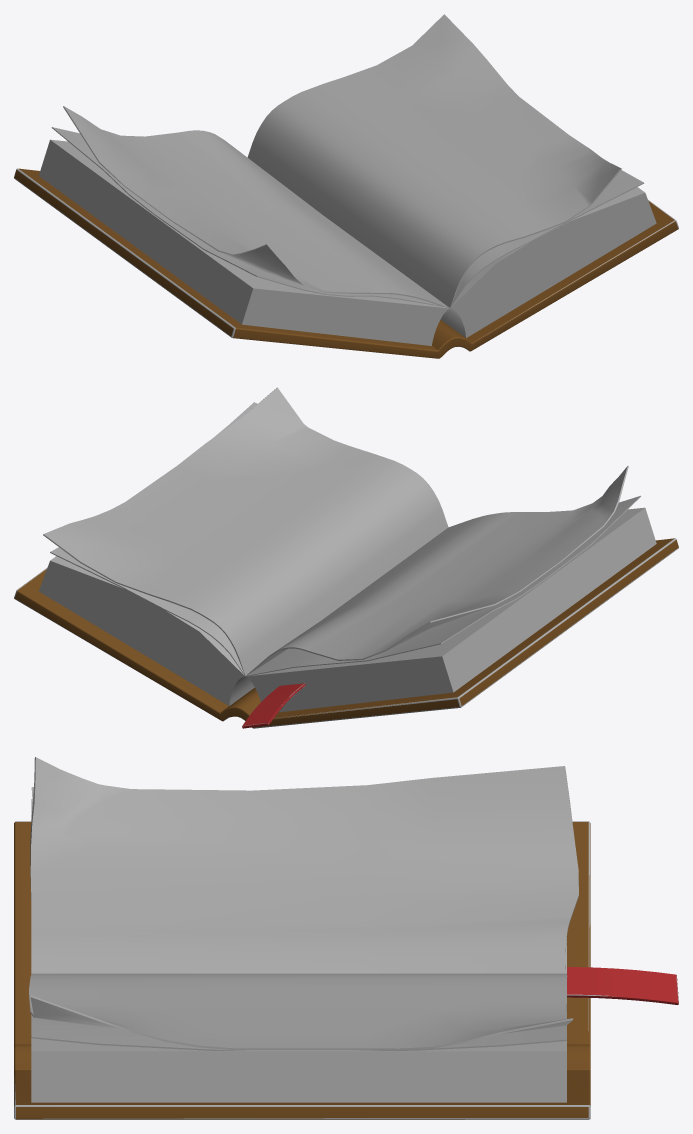
The model's file is book.glb.
3 renders of one model, top to bottom at view 1: azimuth 30°, elevation 25°; view 2: azimuth 150°, elevation 25°; view 3: azimuth 270°, elevation 25°, orthographic. The views are drawn at different scales.
Parts seen in each view (by area): view 1: node_id40; view 2: node_id40; view 3: node_id40.
Part boxes in pixels (left/top/right/bottom): node_id40: left=14, top=14, right=678, bottom=358; node_id40: left=14, top=387, right=678, bottom=728; node_id40: left=14, top=757, right=678, bottom=1119.
Bounding box in the file's own units: 0.512 × 0.1638 × 0.4996.
